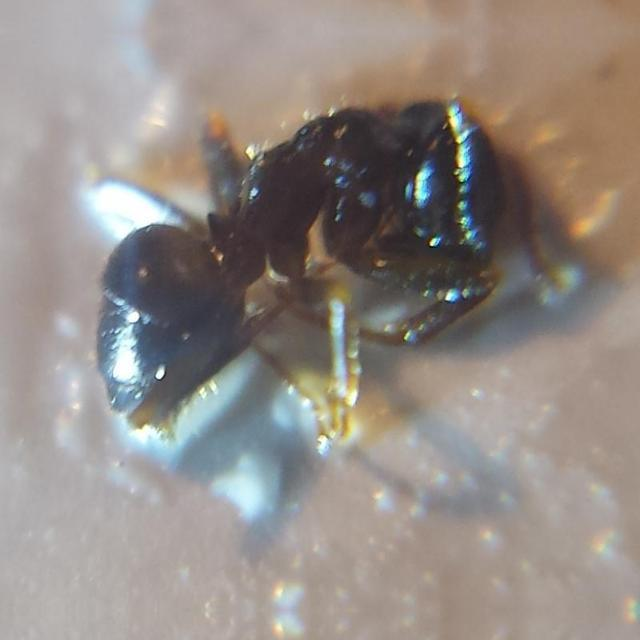Lasius: (91, 60, 557, 448)
